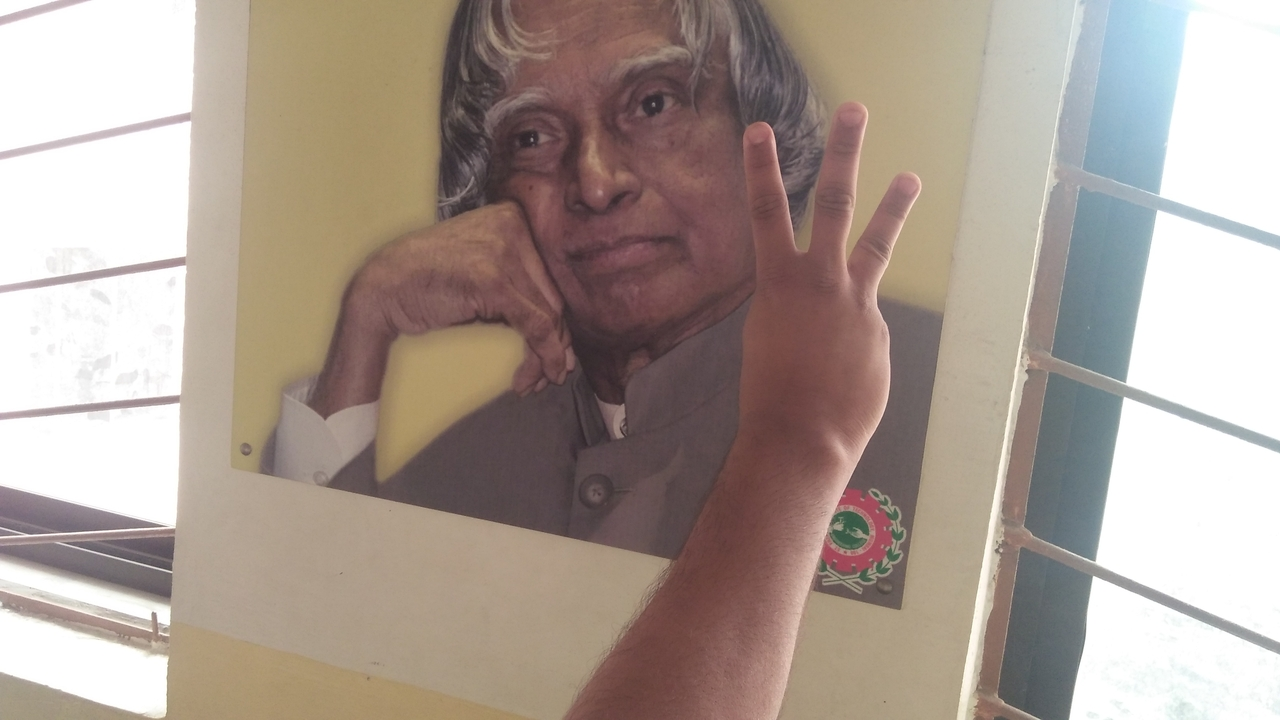fingertip: (824, 92, 880, 138), (880, 158, 932, 206), (734, 112, 780, 160)
